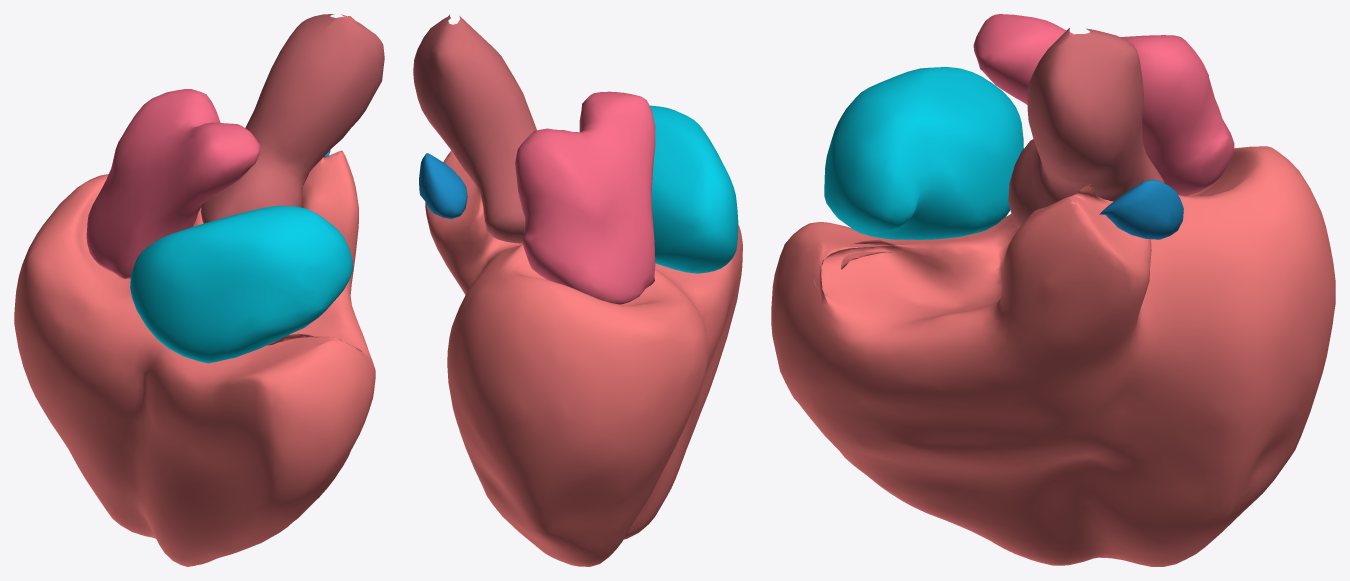
File: frame_52.glb
The picture shows the model from 3 angles, left to right: view 1: azimuth 30°, elevation 25°; view 2: azimuth 150°, elevation 25°; view 3: azimuth 270°, elevation 25°; orthographic projection. The views are drawn at different scales.
Parts seen in each view (by area): view 1: Renderer Node; view 2: Renderer Node; view 3: Renderer Node.
Part boxes in pixels (x1,y1,x2,y2): Renderer Node: (14, 14, 384, 566); Renderer Node: (413, 14, 742, 566); Renderer Node: (771, 14, 1335, 566).
Size of the model in its own units: 103 by 158 by 127.
